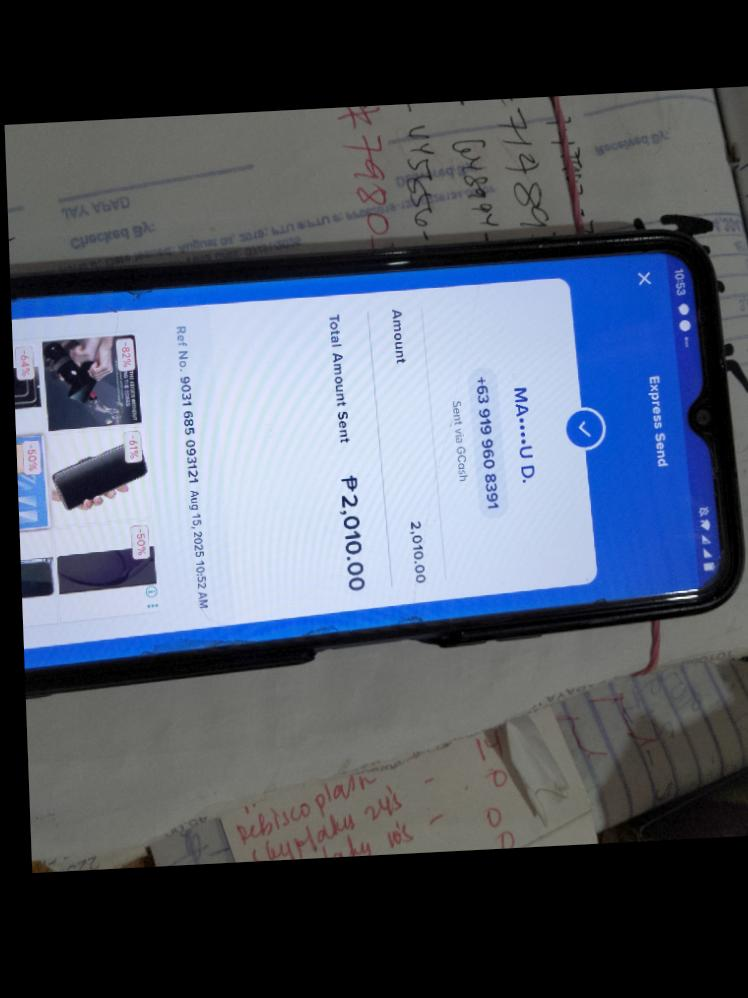Receipt: (11, 257, 693, 666)
